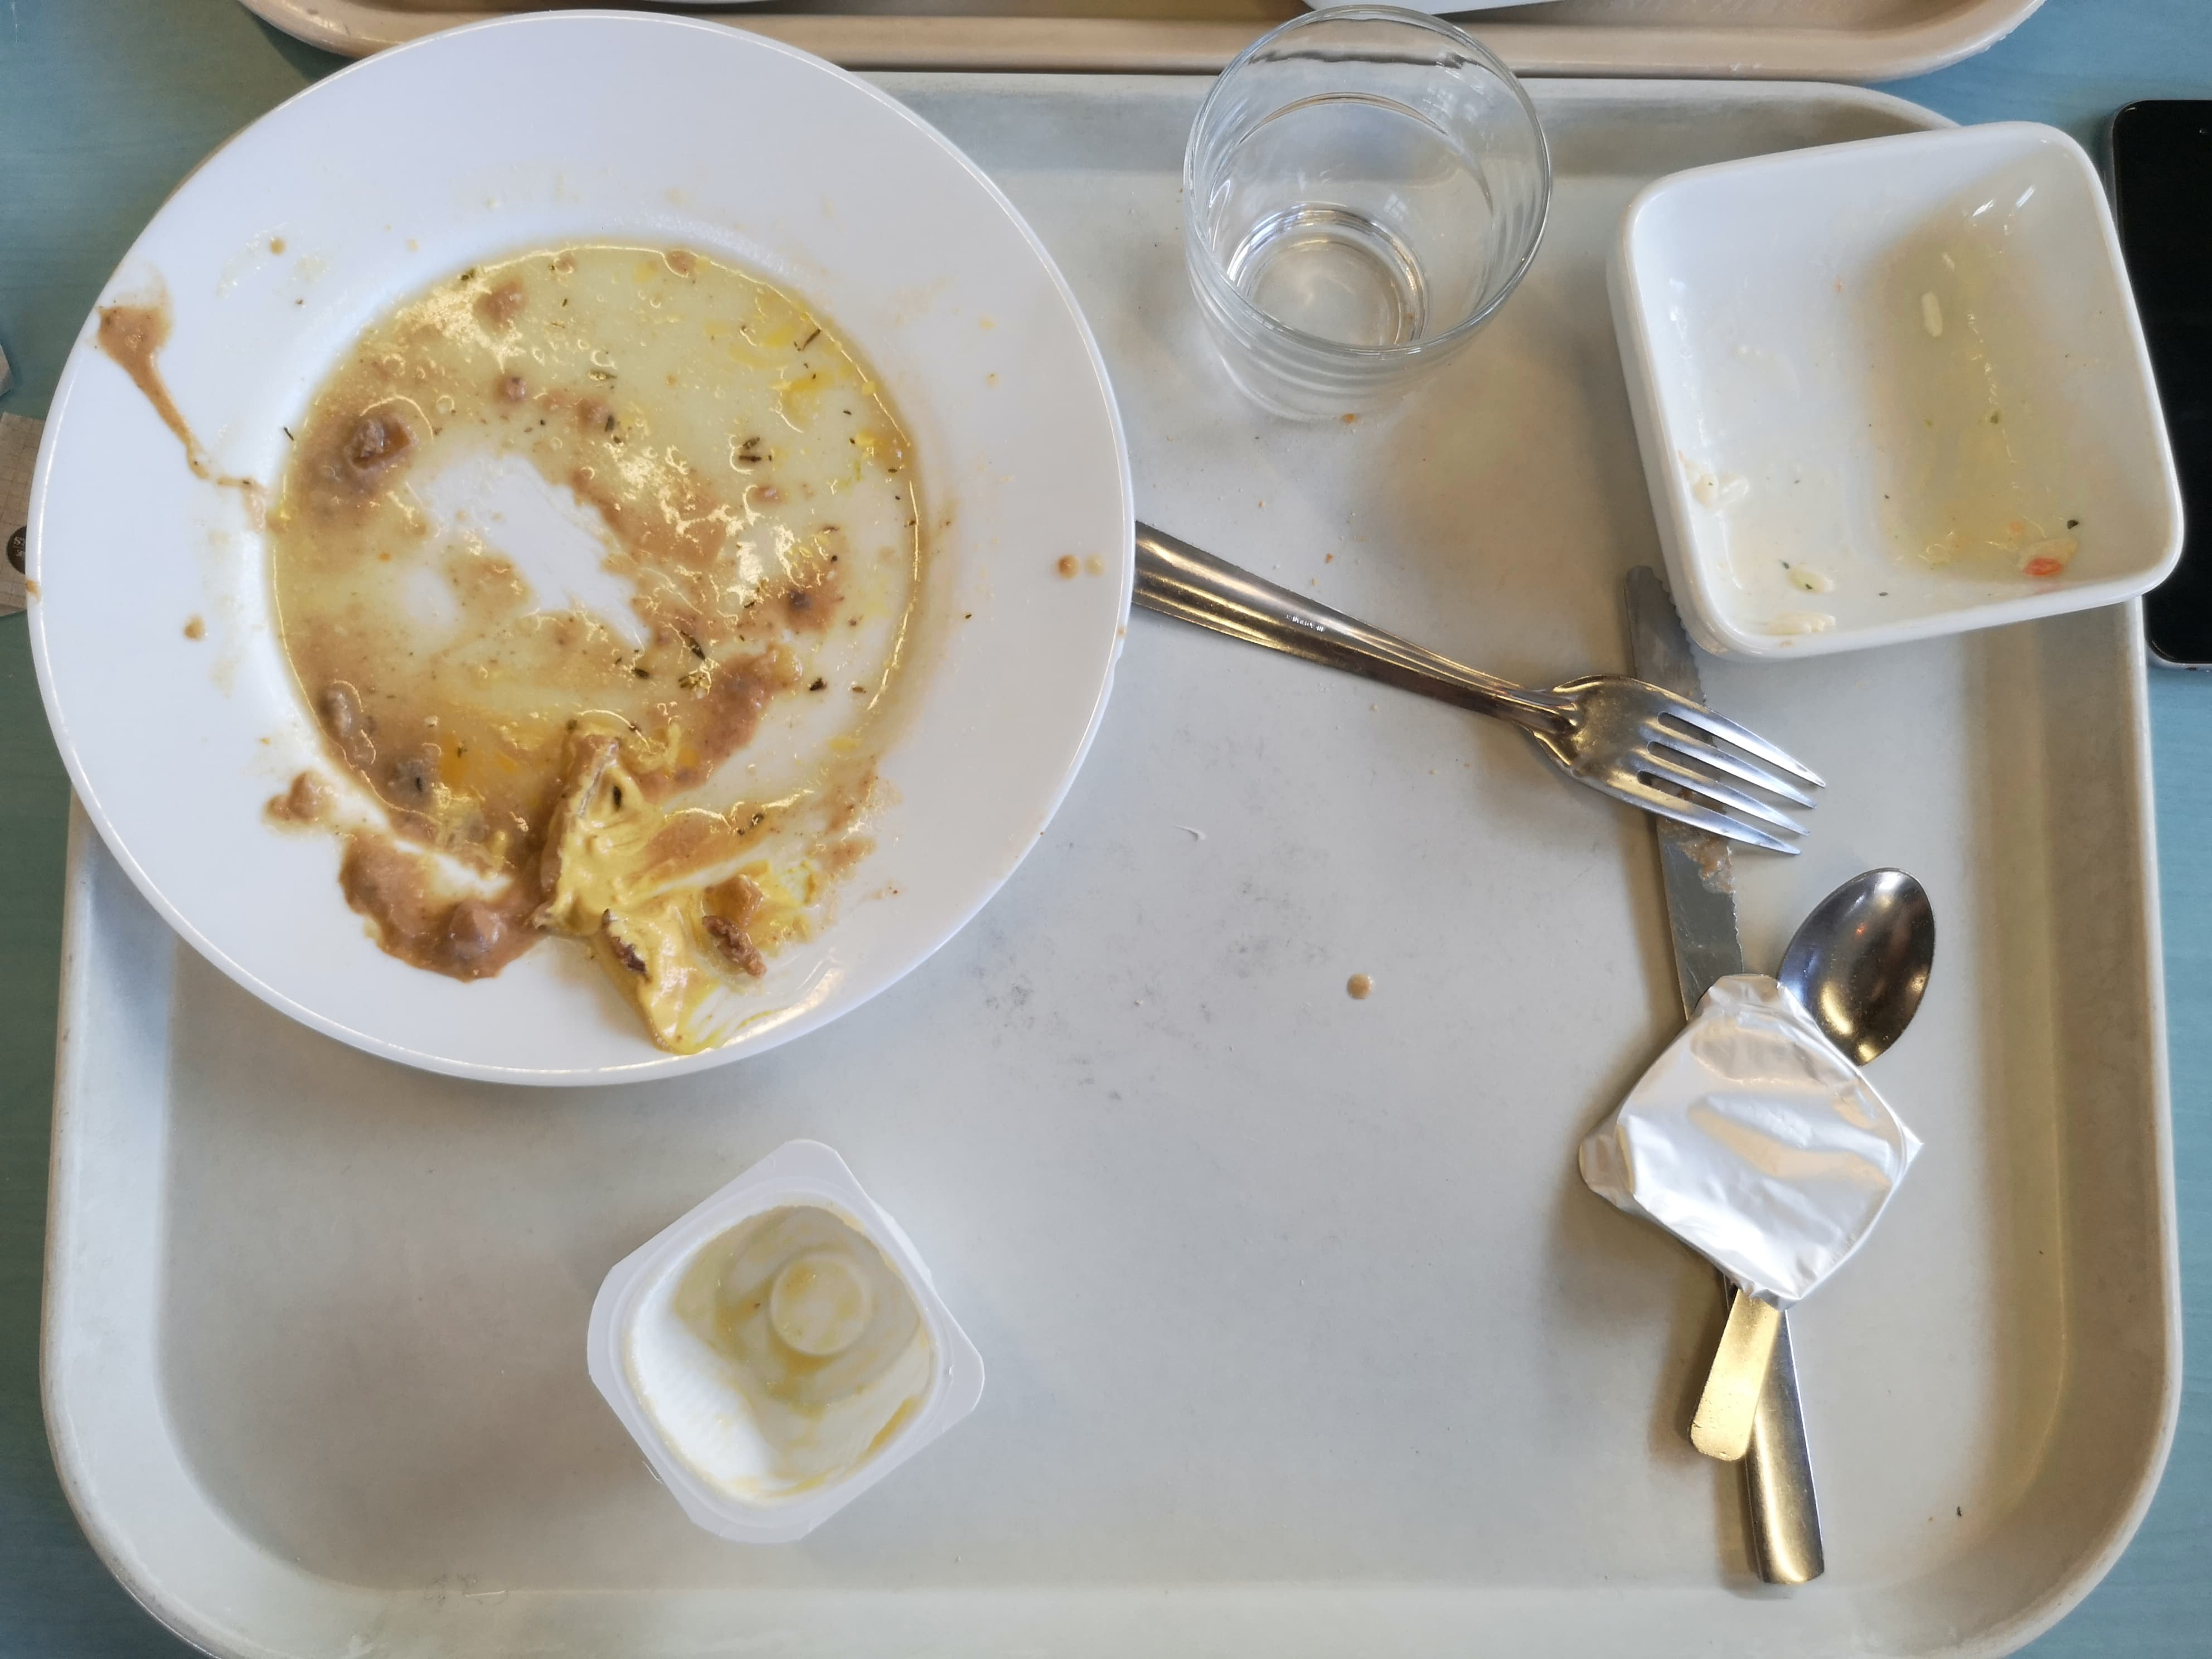cup: (1148, 10, 1550, 429)
cutlery: (1134, 518, 1841, 887), (1609, 575, 1778, 986), (1676, 1284, 1857, 1593), (1791, 864, 1973, 1086)
orga: (310, 683, 820, 1009)
trash: (554, 1124, 977, 1535), (1627, 967, 1925, 1293)
